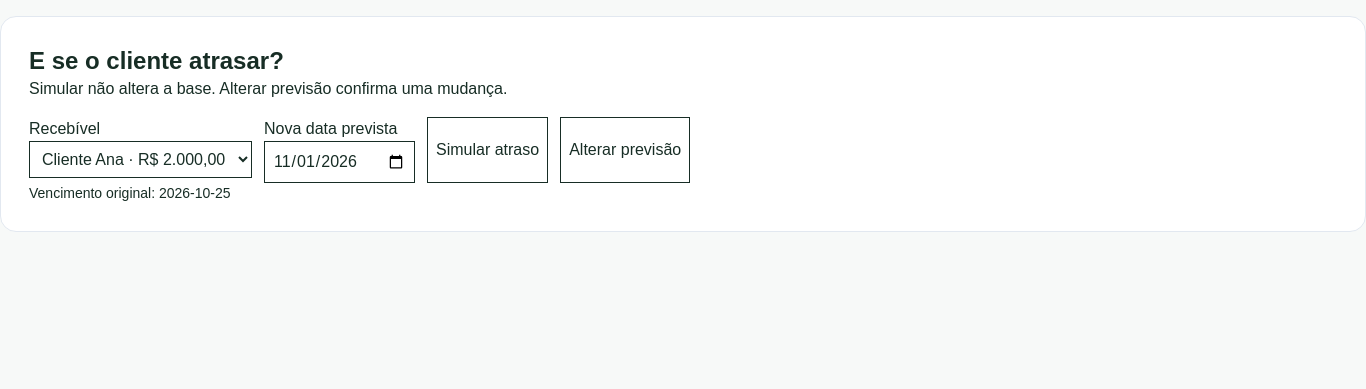
Scenario: T17 CASH-03 mostra mínimo e intervalo vindos da simulação
The image size is (1366, 389).
Click the button "Simular atraso". click: (488, 150)
box: [427, 117, 548, 183]
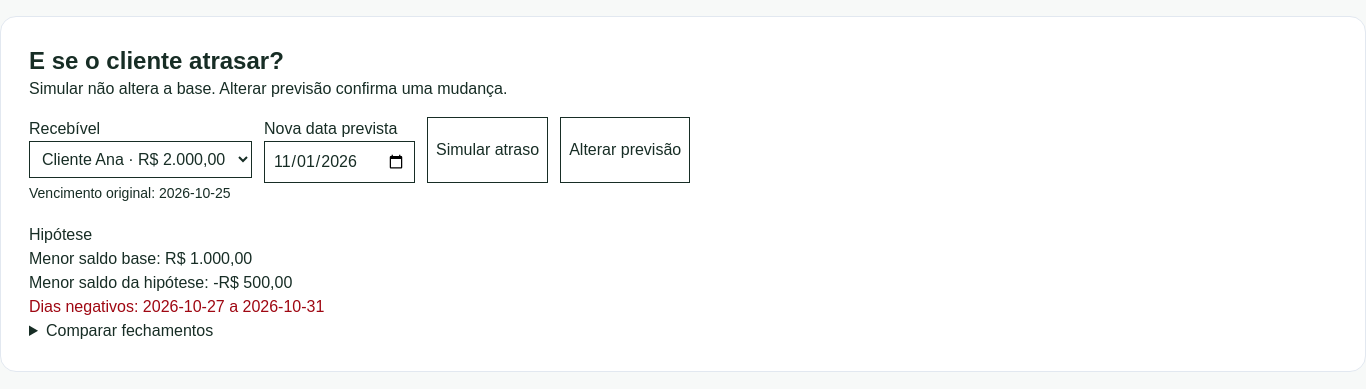
Expected: the heading "Hipótese" is shown, [29, 226, 92, 243]
Expected: the text "Dias negativos: 2026-10-27 a 2026-10-31" is shown, [29, 298, 324, 315]
Expected: the text with test id "scenario-minimum" reads "Menor saldo da hipótese: -R$ 500,00", [213, 274, 292, 291]
